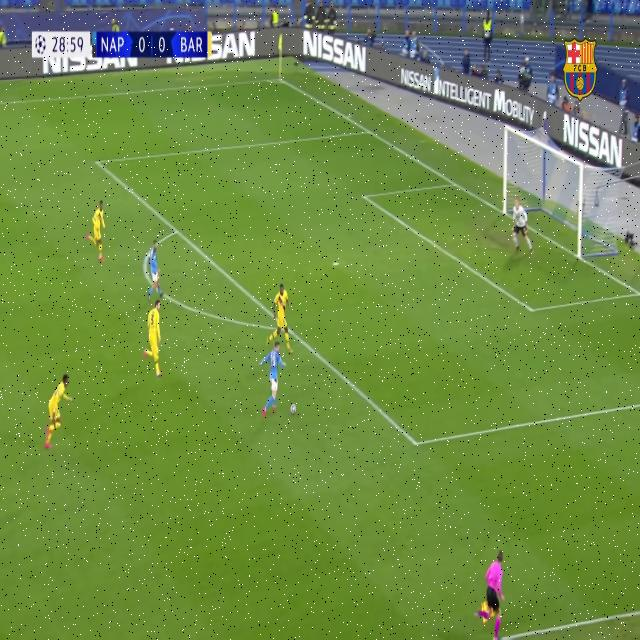Ball: (289, 400, 298, 421)
GoalKeeper: (510, 200, 534, 259)
TEAM 1: (43, 374, 73, 451), (142, 299, 164, 385), (268, 282, 294, 354), (89, 198, 107, 262)
TEAM 2: (259, 339, 288, 420), (148, 233, 163, 305)
